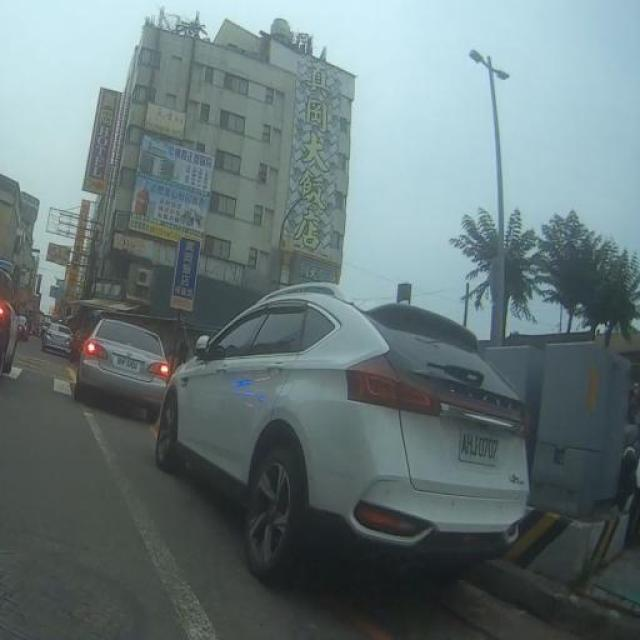illegalparking: (42, 256, 552, 608)
